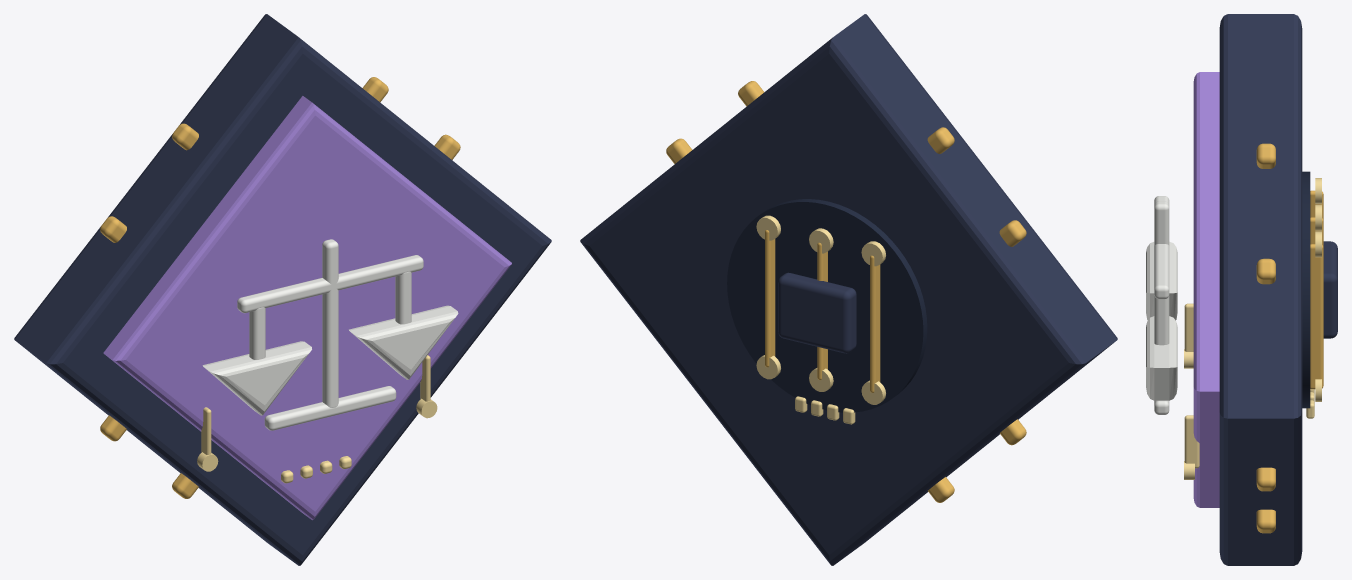
File: chip-fairness.glb
The picture shows the model from 3 angles, left to right: view 1: azimuth 30°, elevation 25°; view 2: azimuth 150°, elevation 25°; view 3: azimuth 270°, elevation 25°; orthographic projection. The views are drawn at different scales.
Visible parts, largest first — view 1: component (×9); view 2: component (×6); view 3: component (×16).
Part boxes in pixels (<box>): component (×9): <box>14,14,551,565</box>; component (×6): <box>580,14,1117,565</box>; component (×16): <box>1146,14,1337,565</box>.
Size of the model in its own units: 0.0443 by 0.0443 by 0.014.
